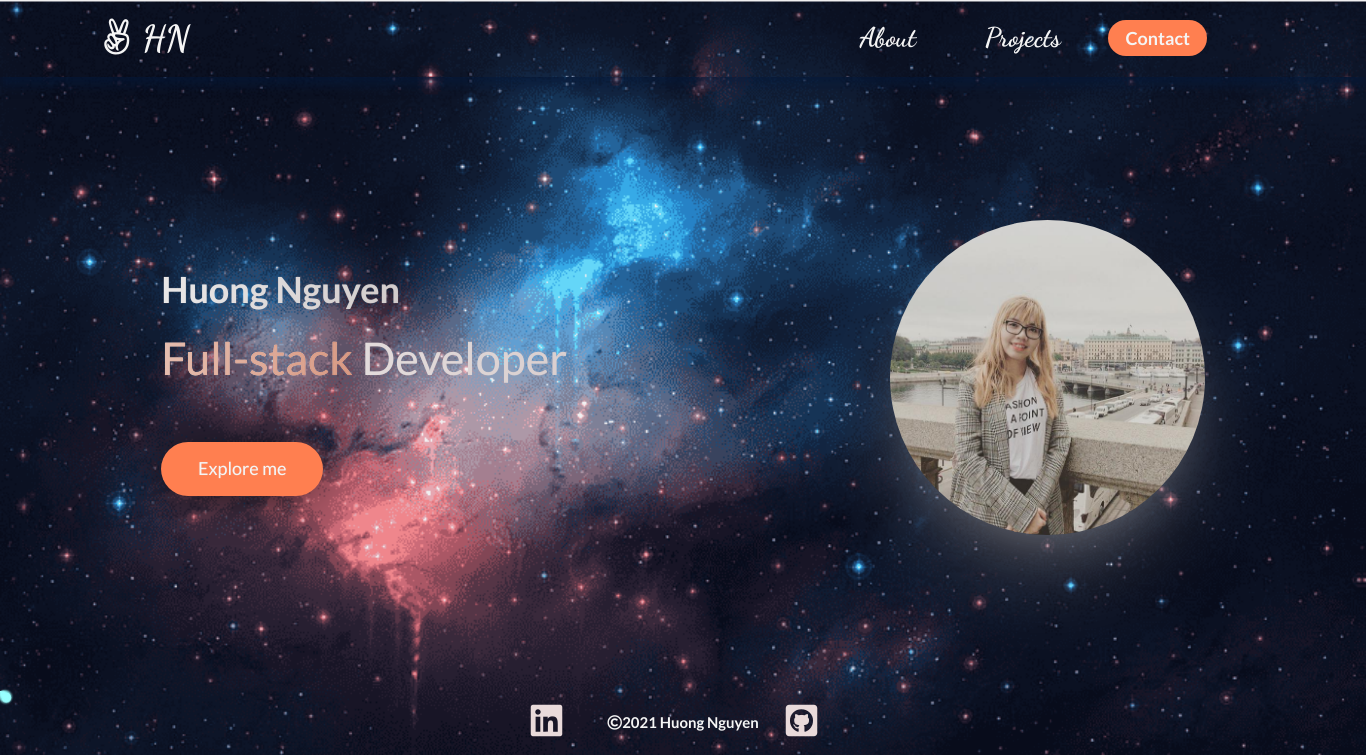
Scenario: Home page › About page can be navigated to
Click the link "About" at (888, 39), box [860,22,916,55]
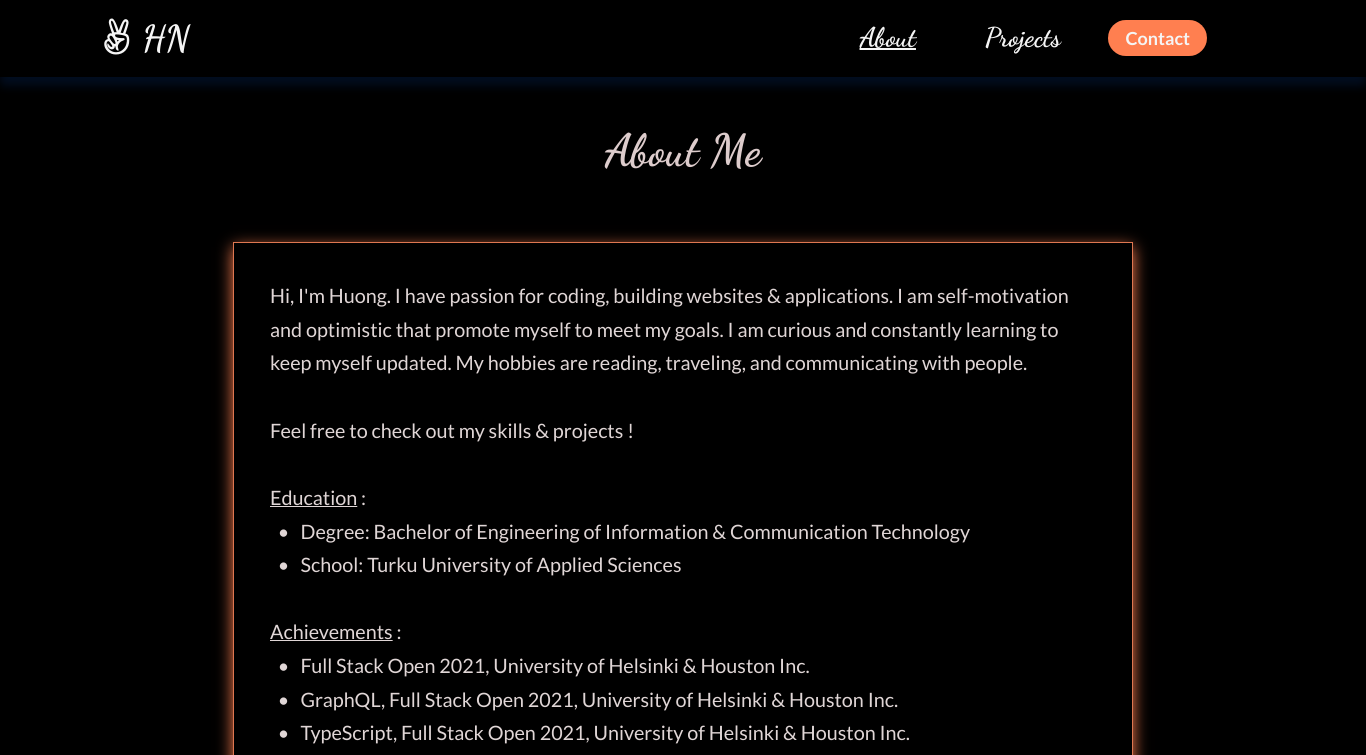
Expected: the heading "About Me" is shown, [605,124,761,178]
